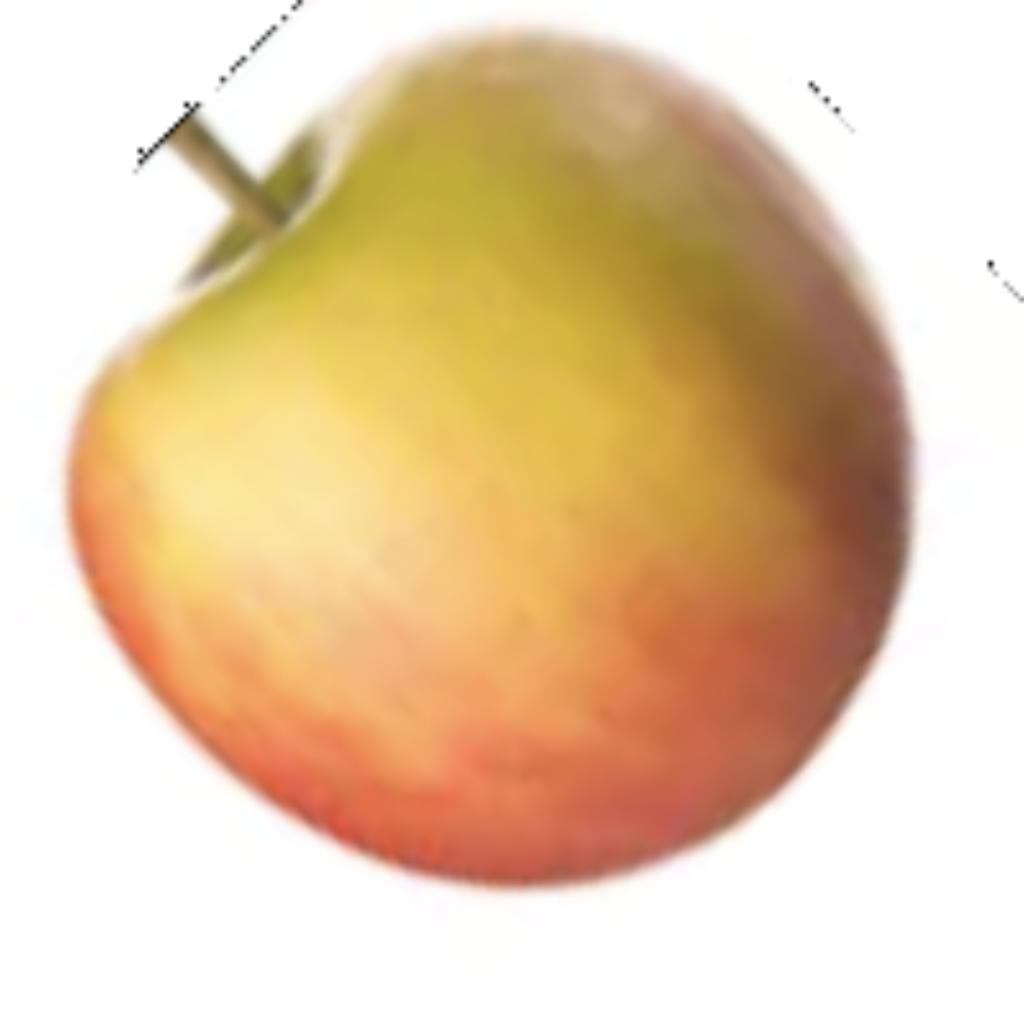apple: (46, 10, 927, 901)
